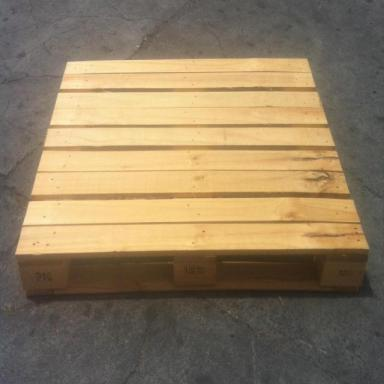pallet: (15, 58, 369, 297)
